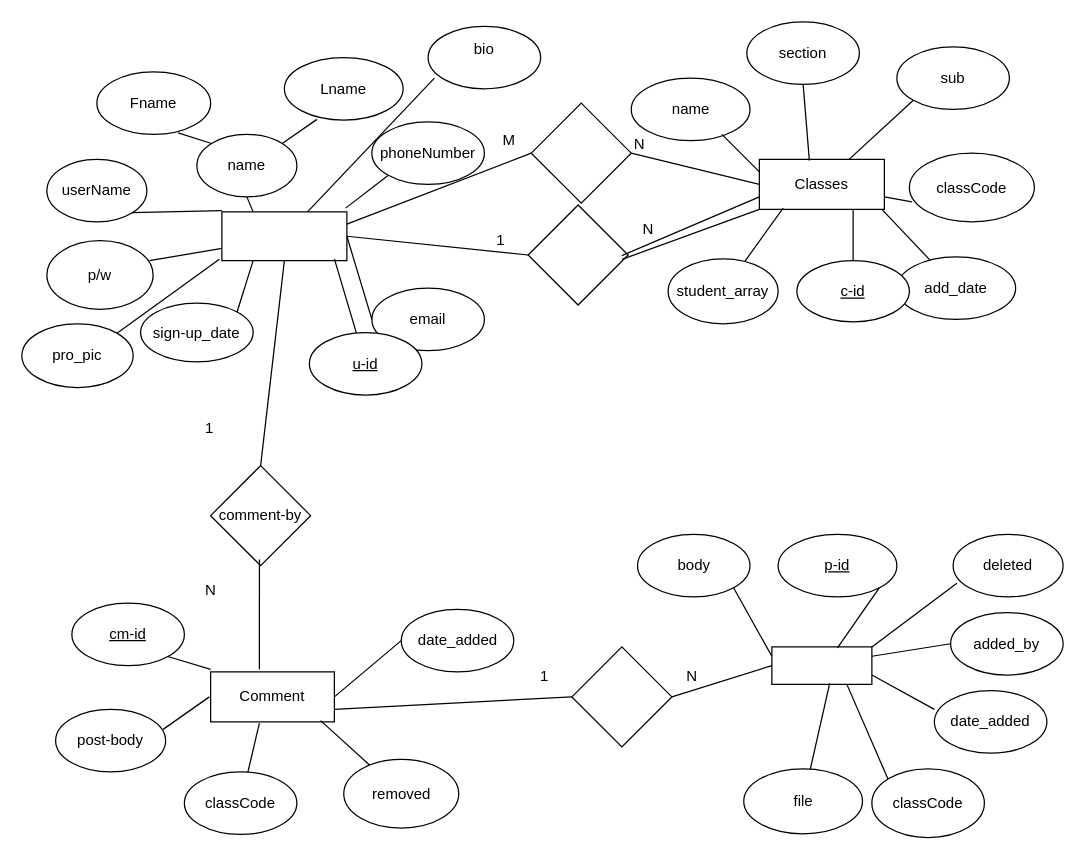
This 1085x860 diagram has some shape labels left out. The box of each missing label's shape, as (x1, y1, x2, y2) in pixels:
commented in: (571, 646, 672, 747)
joins: (530, 102, 631, 203)
Post: (771, 646, 872, 684)
teaches: (527, 204, 628, 305)
User: (221, 211, 347, 261)
